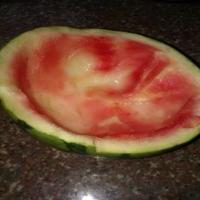biodegradable: (0, 25, 200, 158)
